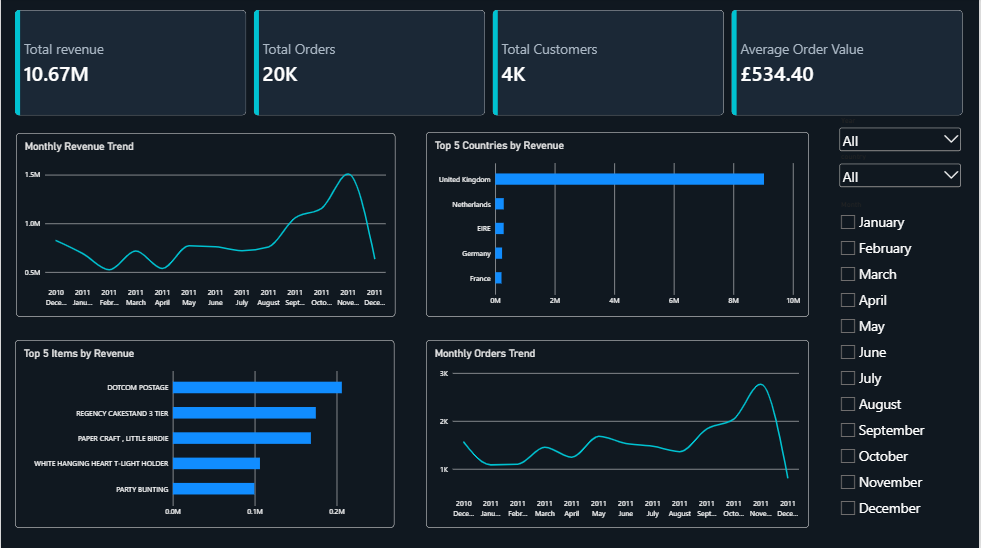

The page's visual inventory and layout, read from the dashboard file:
{"tool":"powerbi","page":{"name":"Executive Overview","canvas":[1920,1080],"ordinal":1},"visuals":[{"type":"cardVisual","fields":{"Data":["public online_retail_sales.total revenue","public online_retail_sales.Total Order","public online_retail_sales.Total Customer","public online_retail_sales.Average Order Value"]},"box":[28.1,23.8,1861.9,207.4],"z":0},{"type":"lineChart","title":"Monthly Revenue Trend","fields":{"Category":["Custom_calender.Month-Year"],"Y":["public online_retail_sales.total revenue"]},"box":[28.9,264.3,745.3,361.3],"z":1000},{"type":"clusteredBarChart","title":"Top 5 Countries by Revenue","fields":{"Category":["public online_retail_sales.country"],"Y":["public online_retail_sales.total revenue"]},"box":[833.8,263.5,751.7,362.9],"z":2000},{"type":"clusteredBarChart","title":"Top 5 Items by Revenue","fields":{"Category":["public online_retail_sales.description"],"Y":["public online_retail_sales.total revenue"]},"box":[28.1,671.8,745.2,369.4],"z":3000},{"type":"lineChart","title":"Monthly Orders Trend","fields":{"Category":["Custom_calender.Month-Year"],"Y":["public online_retail_sales.Total Order"]},"box":[833.8,671.8,751.7,369.4],"z":4000},{"type":"slicer","fields":{"Values":["Custom_calender.Year"]},"box":[1641.6,231.1,248.4,71.3],"z":5000},{"type":"slicer","fields":{"Values":["Custom_calender.Month"]},"box":[1641.6,397.4,222.5,643.7],"z":6000},{"type":"slicer","fields":{"Values":["public online_retail_sales.country"]},"box":[1641.6,302.4,248.4,95],"z":7000}]}

Visuals, with their boxes in screenshot pixels (x1, y1, x2, y2), scaled from the page's 1920x1080 canvas onto the 981x548 screenshot:
cardVisual - public online_retail_sales.total revenue x public online_retail_sales.Total Order: locate(14, 12, 966, 117)
"Monthly Revenue Trend" lineChart: locate(15, 134, 396, 317)
"Top 5 Countries by Revenue" clusteredBarChart: locate(426, 134, 810, 318)
"Top 5 Items by Revenue" clusteredBarChart: locate(14, 341, 395, 528)
"Monthly Orders Trend" lineChart: locate(426, 341, 810, 528)
slicer - Custom_calender.Year: locate(839, 117, 966, 153)
slicer - Custom_calender.Month: locate(839, 202, 952, 528)
slicer - public online_retail_sales.country: locate(839, 153, 966, 202)
